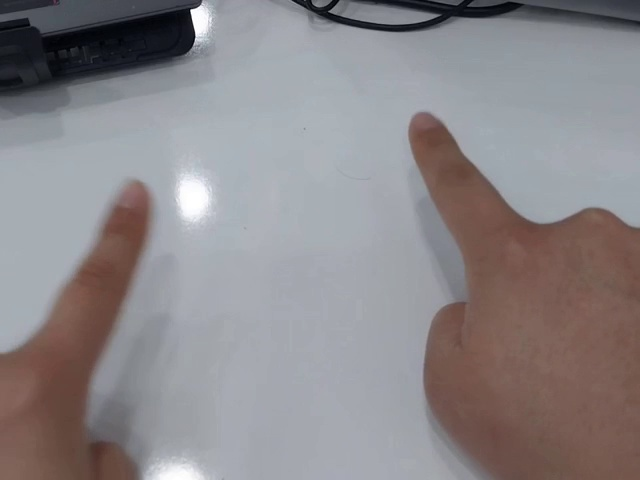fingers: (407, 109, 461, 165), (103, 179, 152, 236)
